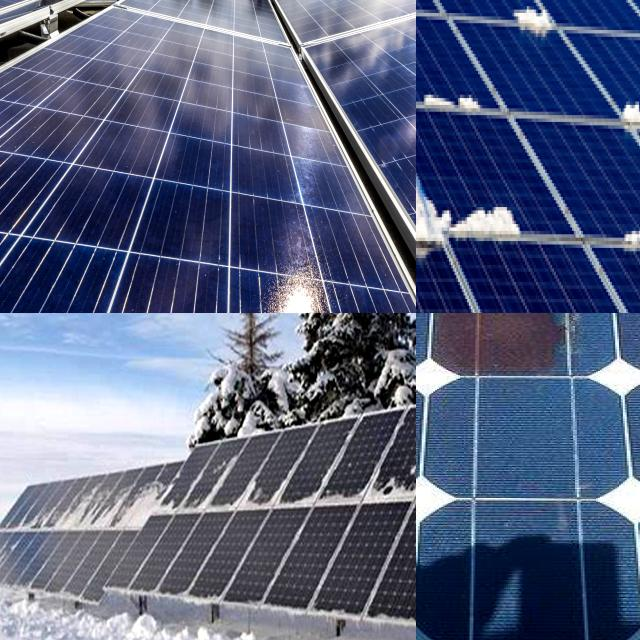crack: (126, 164, 234, 289), (298, 193, 410, 304), (218, 184, 319, 292), (41, 157, 150, 255), (74, 252, 229, 313), (222, 260, 361, 313), (64, 56, 146, 121)
panel: (416, 125, 468, 279), (452, 192, 547, 270), (17, 477, 112, 535), (419, 68, 496, 134), (200, 452, 268, 512), (416, 0, 448, 114), (494, 0, 568, 48), (120, 466, 171, 528), (579, 0, 640, 50), (462, 0, 508, 54), (416, 0, 469, 39), (363, 466, 416, 505), (612, 213, 640, 280), (0, 535, 26, 580), (384, 478, 414, 483)
shadow: (416, 313, 595, 396)
